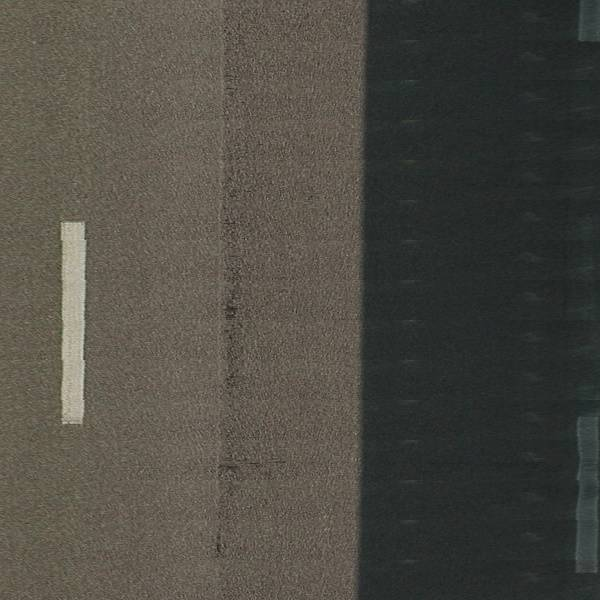road_damage: (216, 176, 251, 562)
